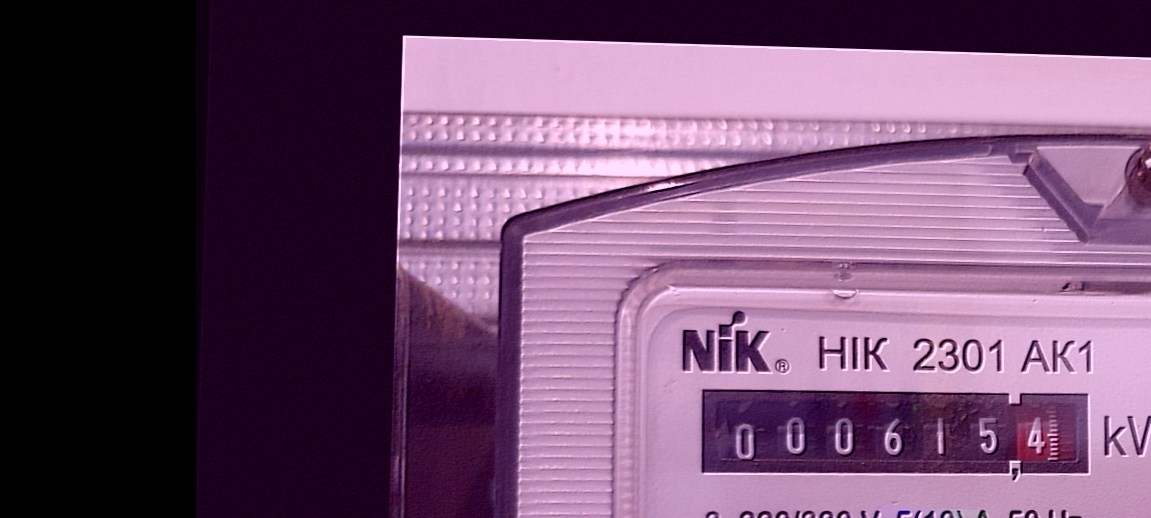0: (830, 413, 856, 456), (731, 418, 757, 459), (782, 412, 807, 453)
1: (933, 413, 947, 454)
4: (1025, 412, 1045, 453)
5: (975, 411, 999, 454)
6: (880, 413, 905, 455)
screen: (685, 368, 1103, 494)
